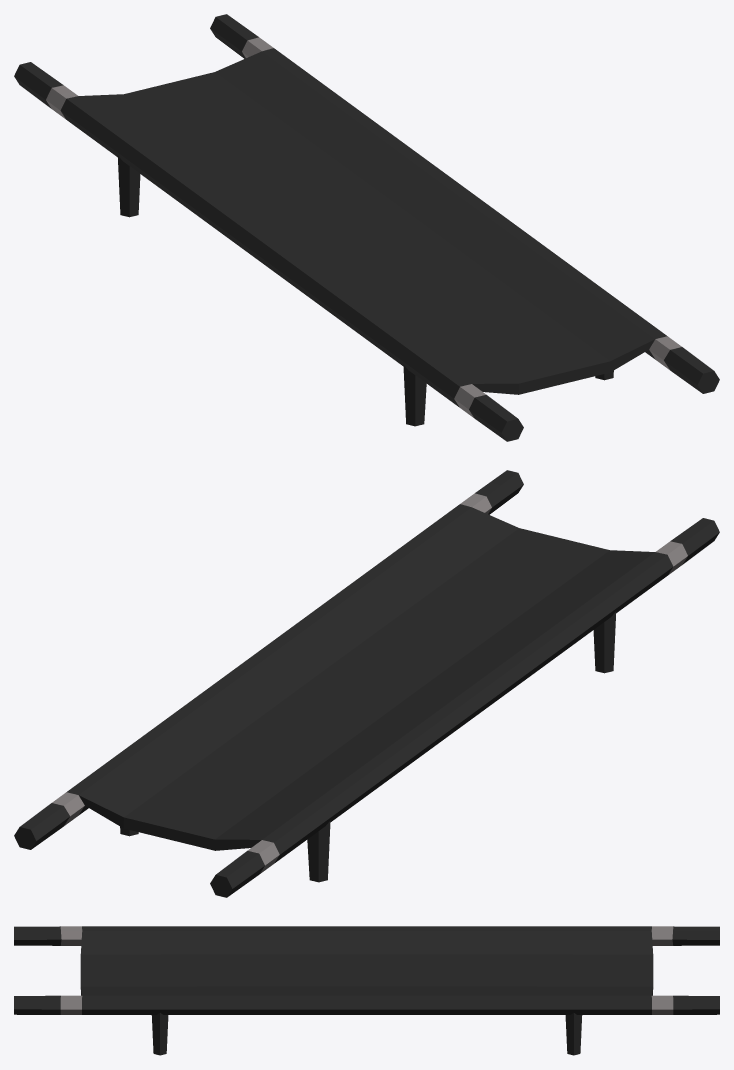
The model's file is stretcher.glb.
3 renders of one model, top to bottom at view 1: azimuth 30°, elevation 25°; view 2: azimuth 150°, elevation 25°; view 3: azimuth 270°, elevation 25°, orthographic. The views are drawn at different scales.
Visible parts, largest first — view 1: stretcher; view 2: stretcher; view 3: stretcher.
Boxes of the visible parts, x1=… form: stretcher: x1=14, y1=14, x2=719, y2=441; stretcher: x1=14, y1=470, x2=719, y2=897; stretcher: x1=14, y1=926, x2=719, y2=1055.
Size of the model in its own units: 0.6023 by 0.2019 by 2.32.
1 material, 1 textured.
